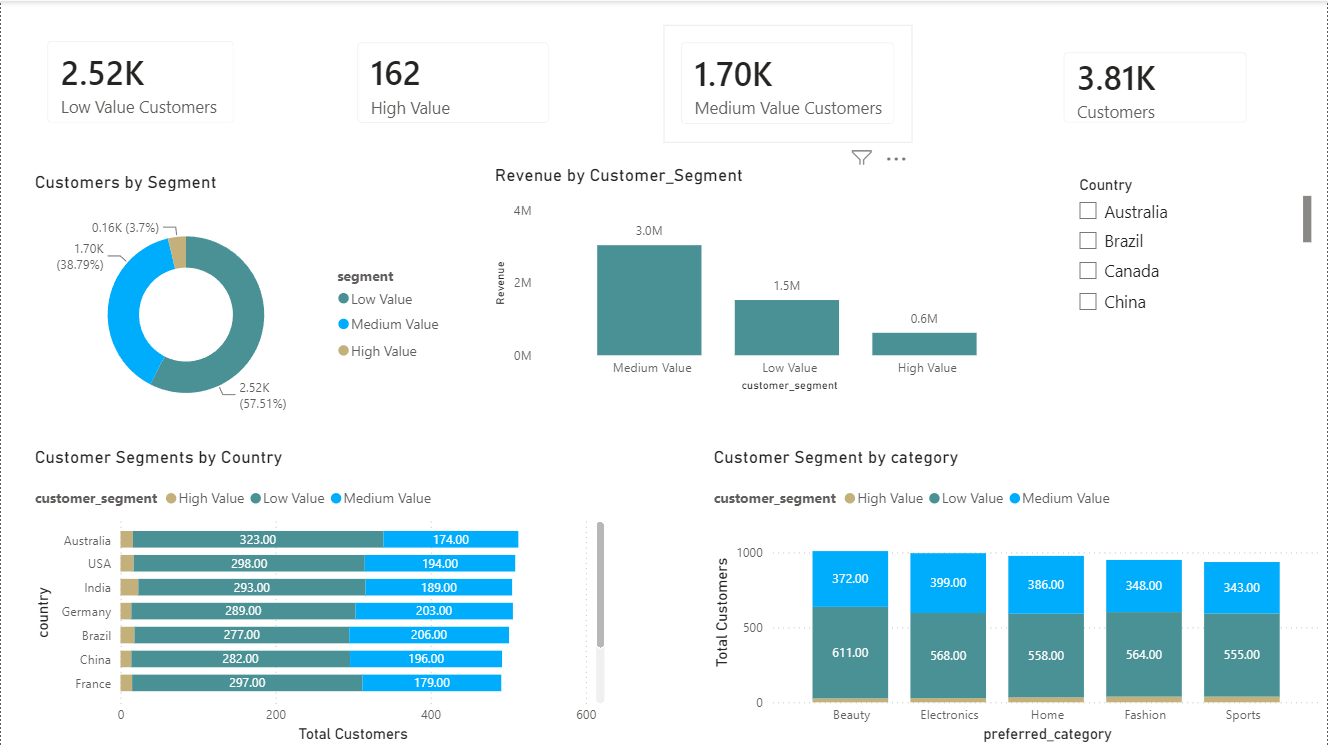

What the dashboard file says about the page in this screenshot:
{"tool":"powerbi","page":{"name":"Customer Segmentation","canvas":[1280,720],"ordinal":1},"visuals":[{"type":"donutChart","title":" Customers by Segment","fields":{"Category":["vw_powerbi_customer.customer_segment"],"Y":["vw_powerbi_customer.Total Customers"]},"box":[27.4,164.7,408.9,247],"z":0},{"type":"cardVisual","fields":{"Data":["vw_powerbi_customer.Total Customers"]},"box":[1008.6,32.9,211.3,102.9],"z":1000},{"type":"cardVisual","fields":{"Data":["vw_powerbi_customer.High Value Customers"]},"box":[326.6,23.3,219.6,112.5],"z":2000},{"type":"cardVisual","fields":{"Data":["vw_powerbi_customer.Medium Value Customers"]},"box":[639.4,22.9,240.1,113.4],"z":3000},{"type":"cardVisual","fields":{"Data":["vw_powerbi_customer.Low Value Customers"]},"box":[27.4,22,214.1,113.9],"z":4000},{"type":"clusteredColumnChart","title":" Revenue by Customer_Segment","fields":{"Category":["vw_powerbi_customer.customer_segment"],"Y":["vw_powerbi_customer.Estimated Revenue"]},"box":[472,157.8,533.8,223.7],"z":5000},{"type":"barChart","title":"Customer Segments by Country","fields":{"Category":["vw_powerbi_customer.country"],"Y":["vw_powerbi_customer.Total Customers"],"Series":["vw_powerbi_customer.customer_segment"]},"box":[27.4,429.5,559.9,290.9],"z":6000},{"type":"columnChart","title":"Customer Segment by category","fields":{"Category":["vw_powerbi_customer.preferred_category"],"Y":["vw_powerbi_customer.Total Customers"],"Series":["vw_powerbi_customer.customer_segment"]},"box":[683.4,429.5,596.9,290.9],"z":7000},{"type":"slicer","fields":{"Values":["vw_powerbi_customer.country"]},"box":[1027.8,164.7,241.5,144.1],"z":8000}]}

Visuals, with their boxes in screenshot pixels (x1, y1, x2, y2), scaled from the page's 1280x720 canvas onto the 1328x747 screenshot:
" Customers by Segment" donutChart: region(28, 171, 453, 427)
cardVisual - vw_powerbi_customer.Total Customers: region(1046, 34, 1266, 141)
cardVisual - vw_powerbi_customer.High Value Customers: region(339, 24, 567, 141)
cardVisual - vw_powerbi_customer.Medium Value Customers: region(663, 24, 912, 141)
cardVisual - vw_powerbi_customer.Low Value Customers: region(28, 23, 251, 141)
" Revenue by Customer_Segment" clusteredColumnChart: region(490, 164, 1044, 396)
"Customer Segments by Country" barChart: region(28, 446, 609, 746)
"Customer Segment by category" columnChart: region(709, 446, 1327, 746)
slicer - vw_powerbi_customer.country: region(1066, 171, 1317, 320)
